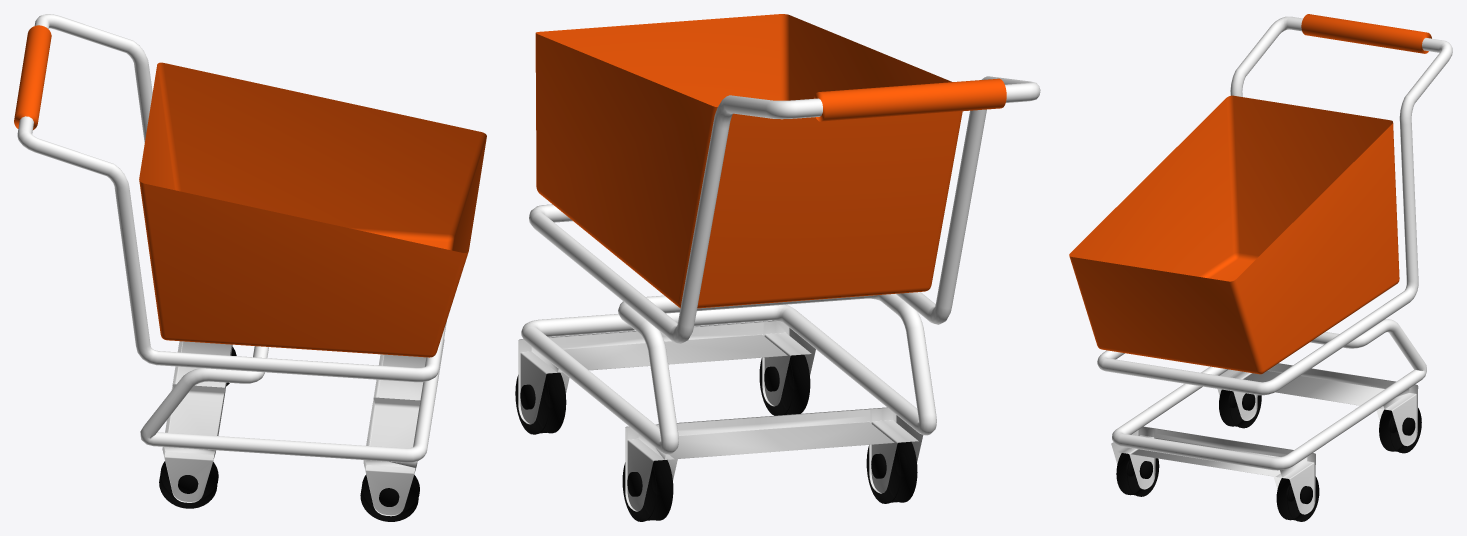
Rendered from Cart.glb.
3 renders of one model, left to right at view 1: azimuth 30°, elevation 25°; view 2: azimuth 150°, elevation 25°; view 3: azimuth 270°, elevation 25°, orthographic. The views are drawn at different scales.
Parts seen in each view (by area): view 1: Plane.001, Cart, Plane, Cube.003, Cylinder, Circle, Cylinder.001; view 2: Plane.001, Plane, Cube.003, Cart, Circle, Cylinder, Cylinder.001; view 3: Plane.001, Cart, Plane, Cube.003, Circle, Cylinder, Cylinder.001.
Part boxes in pixels (x1=…): Plane.001: x1=139, y1=62, x2=486, y2=357; Cart: x1=17, y1=14, x2=446, y2=382; Plane: x1=162, y1=341, x2=425, y2=516; Cube.003: x1=140, y1=338, x2=444, y2=462; Cylinder: x1=14, y1=25, x2=51, y2=129; Circle: x1=159, y1=347, x2=419, y2=521; Cylinder.001: x1=178, y1=475, x2=399, y2=506; Plane.001: x1=535, y1=14, x2=962, y2=308; Plane: x1=518, y1=320, x2=923, y2=511; Cube.003: x1=521, y1=294, x2=936, y2=454; Cart: x1=529, y1=76, x2=1040, y2=343; Circle: x1=515, y1=354, x2=917, y2=521; Cylinder: x1=814, y1=78, x2=1006, y2=121; Cylinder.001: x1=520, y1=365, x2=907, y2=496; Plane.001: x1=1069, y1=95, x2=1399, y2=374; Cart: x1=1097, y1=16, x2=1452, y2=395; Plane: x1=1111, y1=363, x2=1418, y2=514; Cube.003: x1=1112, y1=319, x2=1426, y2=470; Circle: x1=1116, y1=389, x2=1421, y2=521; Cylinder: x1=1301, y1=14, x2=1431, y2=53; Cylinder.001: x1=1126, y1=391, x2=1415, y2=503.
Size of the model in its own units: 2.42 by 2.24 by 2.06.
